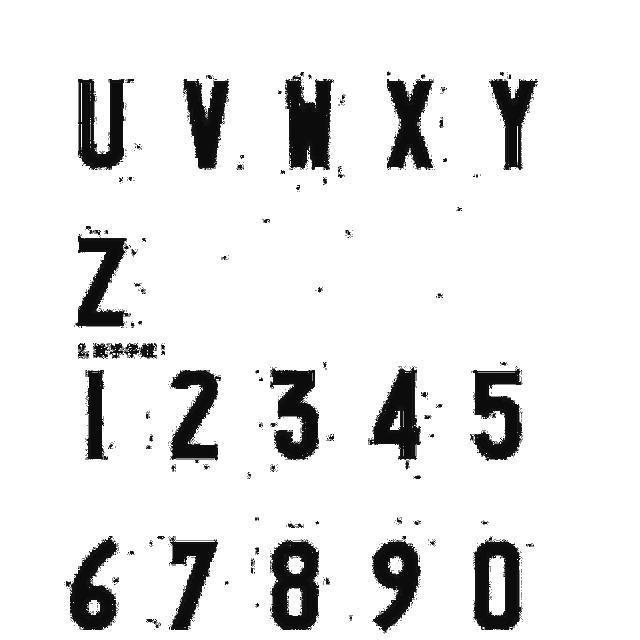0: (468, 533, 526, 635)
1: (82, 364, 110, 466)
2: (163, 367, 223, 463)
3: (268, 364, 324, 464)
5: (468, 366, 526, 464)
6: (66, 538, 124, 634)
7: (168, 535, 220, 635)
8: (262, 535, 326, 635)
9: (366, 534, 422, 636)
U: (76, 75, 130, 173)
V: (177, 76, 231, 172)
W: (280, 76, 338, 170)
X: (384, 76, 440, 172)
Y: (486, 73, 540, 173)
Z: (72, 232, 130, 330)
